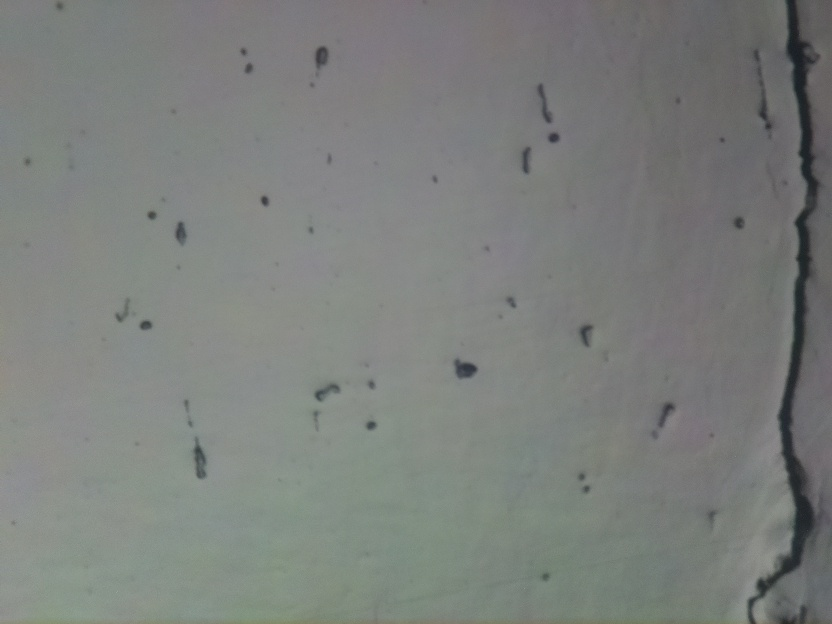crack: (746, 0, 822, 624)
